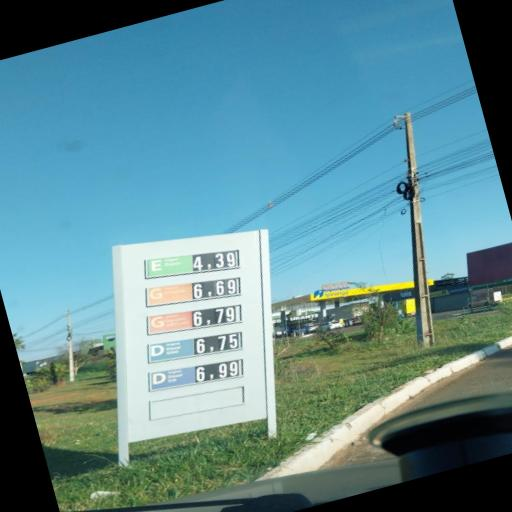ETANOL: (145, 254, 193, 275)
GASOLINA AD: (147, 310, 193, 332)
GASOLINA C: (148, 283, 191, 303)
S10: (150, 366, 192, 390)
S500: (146, 337, 194, 361)
placa: (126, 238, 265, 398)
preco: (191, 304, 240, 327), (194, 331, 240, 354), (195, 359, 241, 382), (194, 249, 237, 271), (194, 280, 241, 297)
